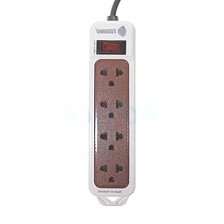three_eye_plug: (82, 13, 142, 203)
